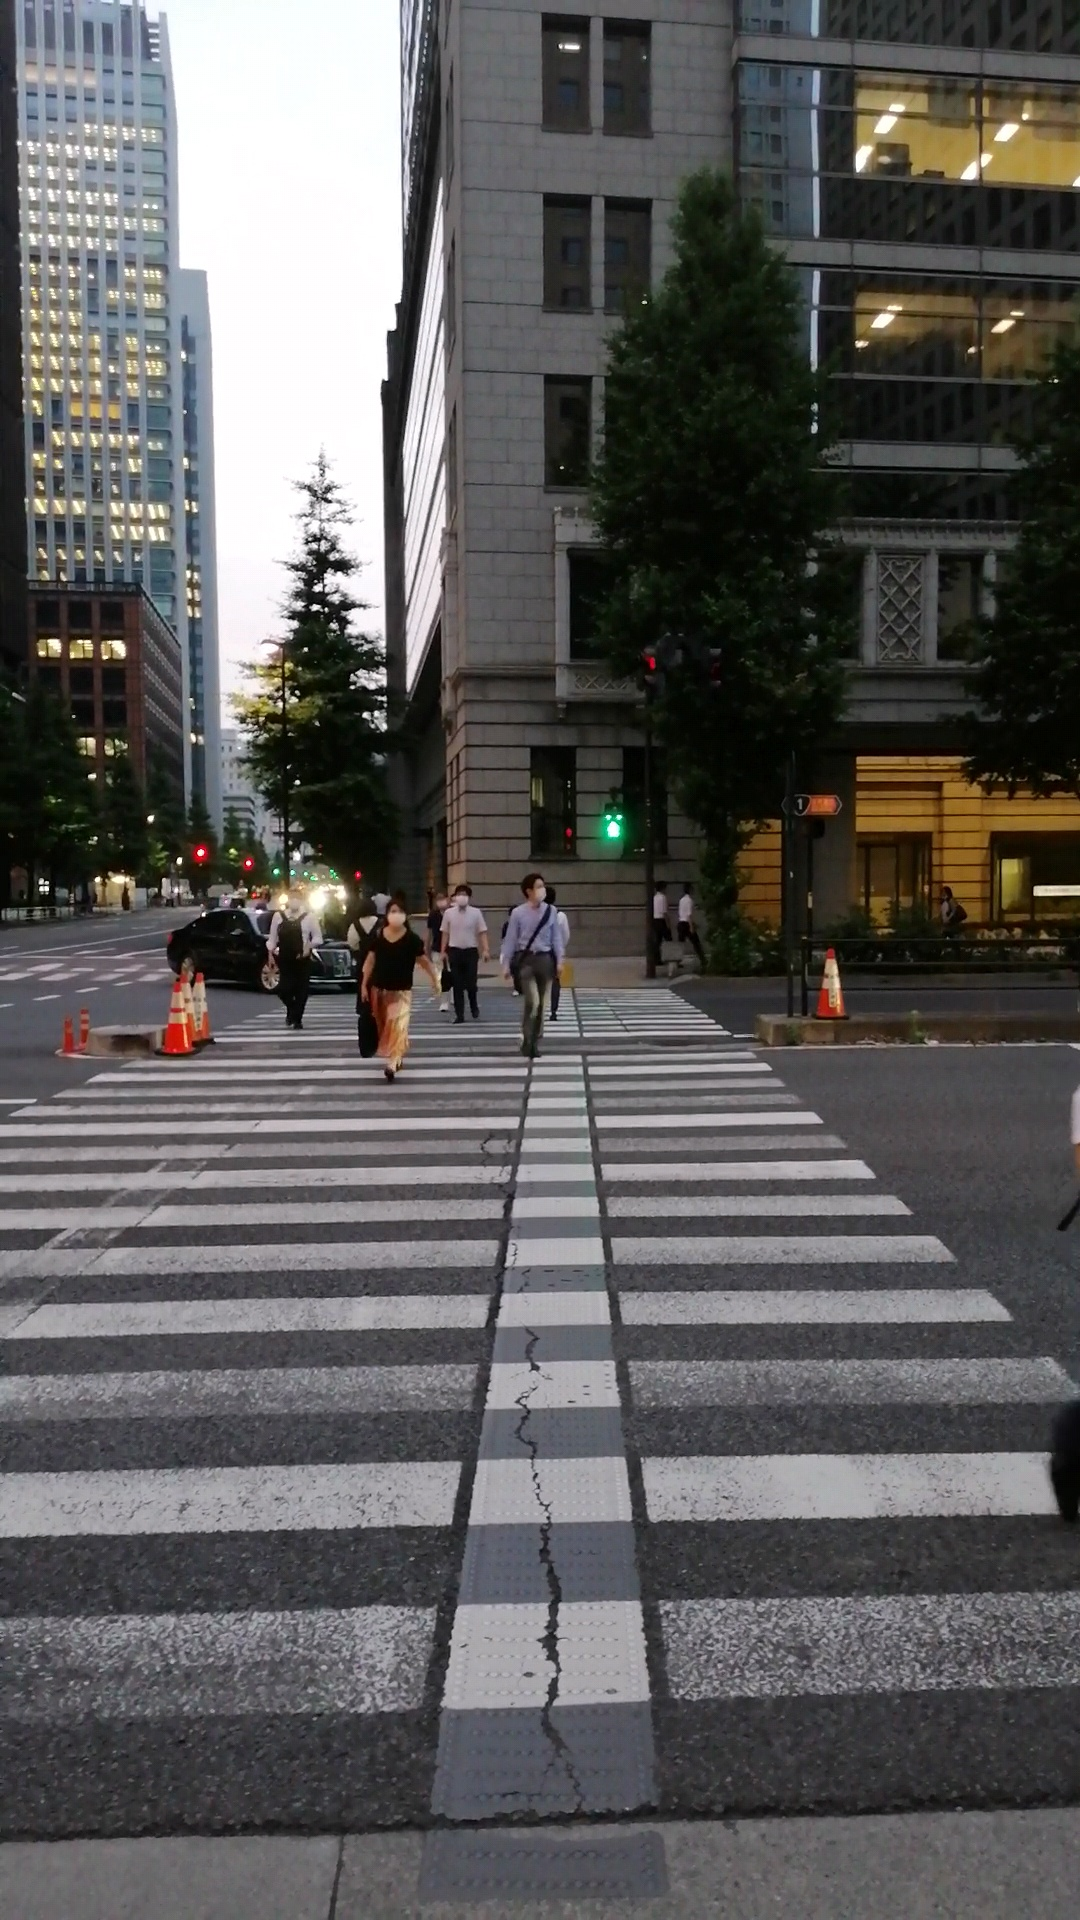green: (601, 802, 625, 841)
